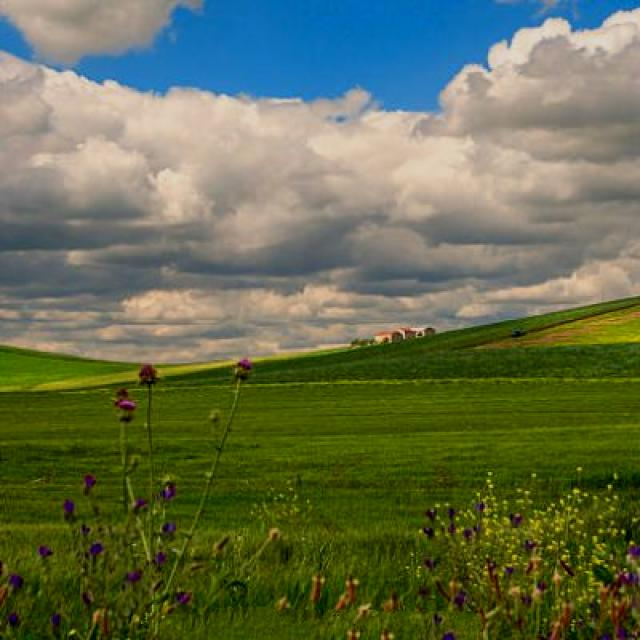nimbostratus: (0, 160, 631, 295)
